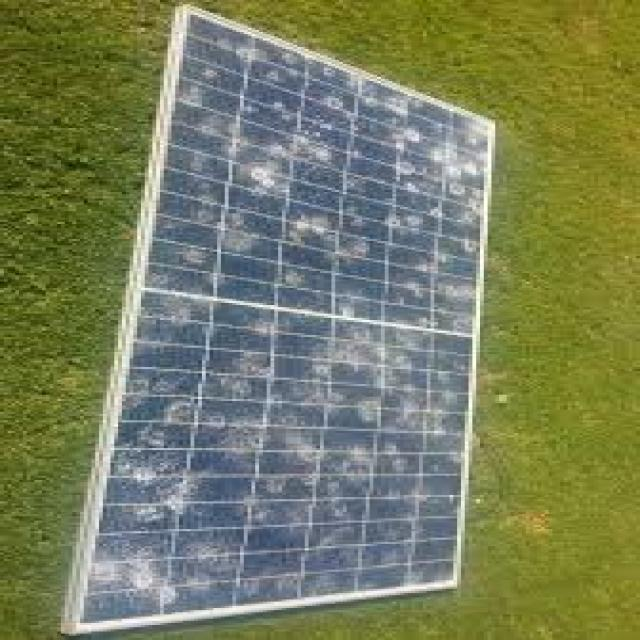faulty: (79, 11, 492, 619)
